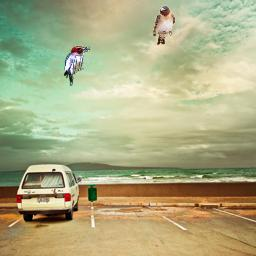Swallow: (153, 5, 175, 45)
Woodpecker: (64, 46, 91, 86)
